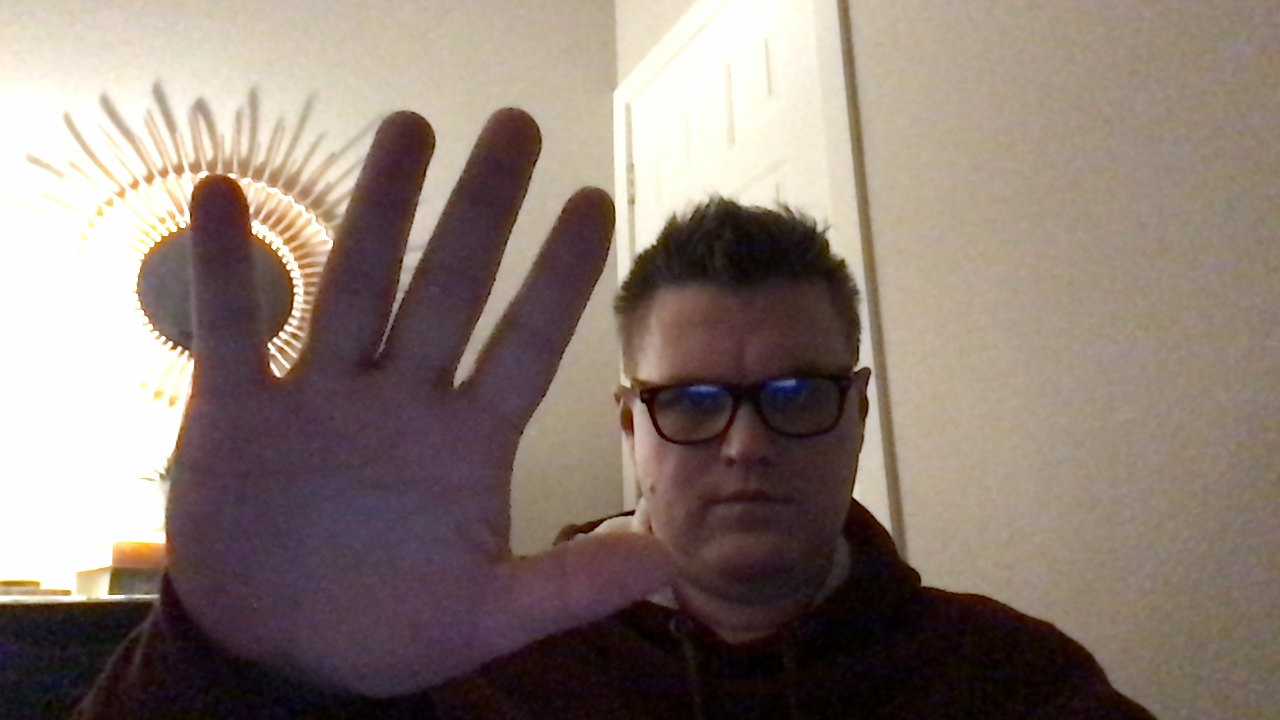hello: (157, 104, 680, 696)
